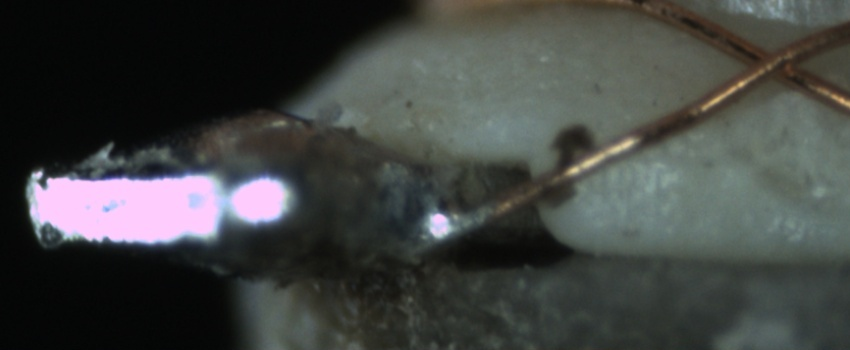CL: (721, 31, 821, 92)
DL: (551, 141, 727, 187)
TS: (420, 202, 500, 251)
